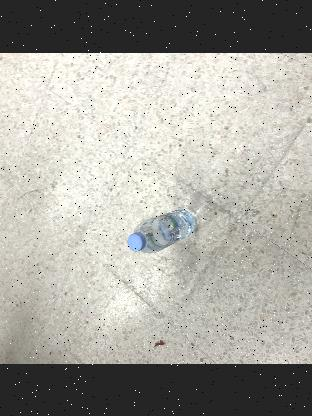Plastic Bottle: (128, 209, 196, 254)
